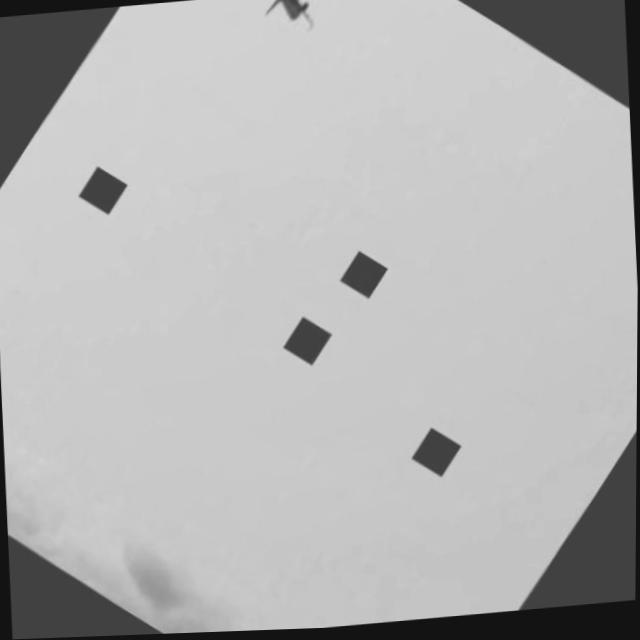aeroplane: (236, 0, 329, 56)
